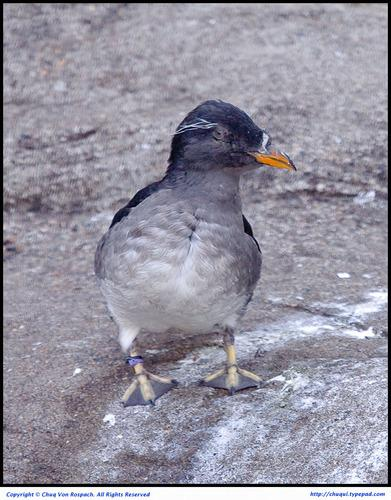008.Rhinoceros_Auklet: (94, 99, 301, 411)
